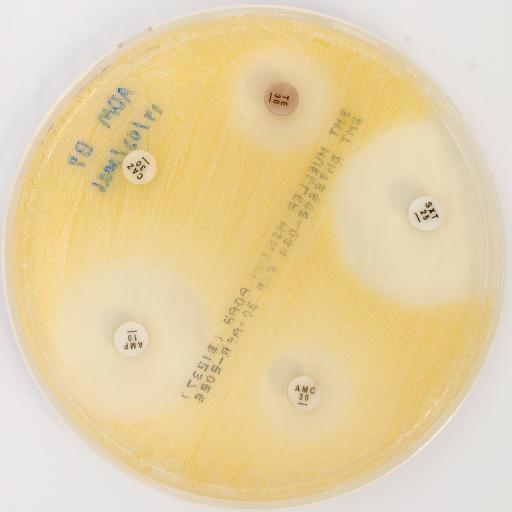disc: (113, 321, 149, 357), (287, 374, 323, 410), (407, 195, 443, 231), (122, 149, 157, 185), (264, 81, 298, 116)
